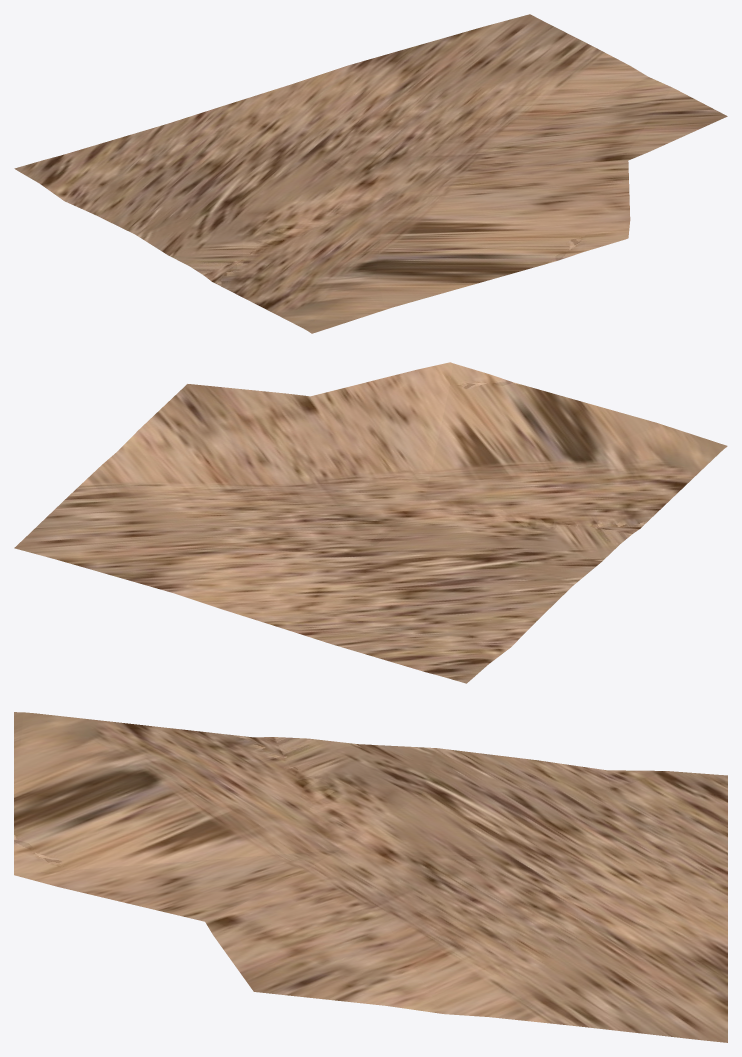
3 renders of one model, top to bottom at view 1: azimuth 30°, elevation 25°; view 2: azimuth 150°, elevation 25°; view 3: azimuth 270°, elevation 25°, orthographic. The views are drawn at different scales.
Size of the model in its own units: 2.09 by 0.2754 by 2.09.
2 materials, 2 textured.
